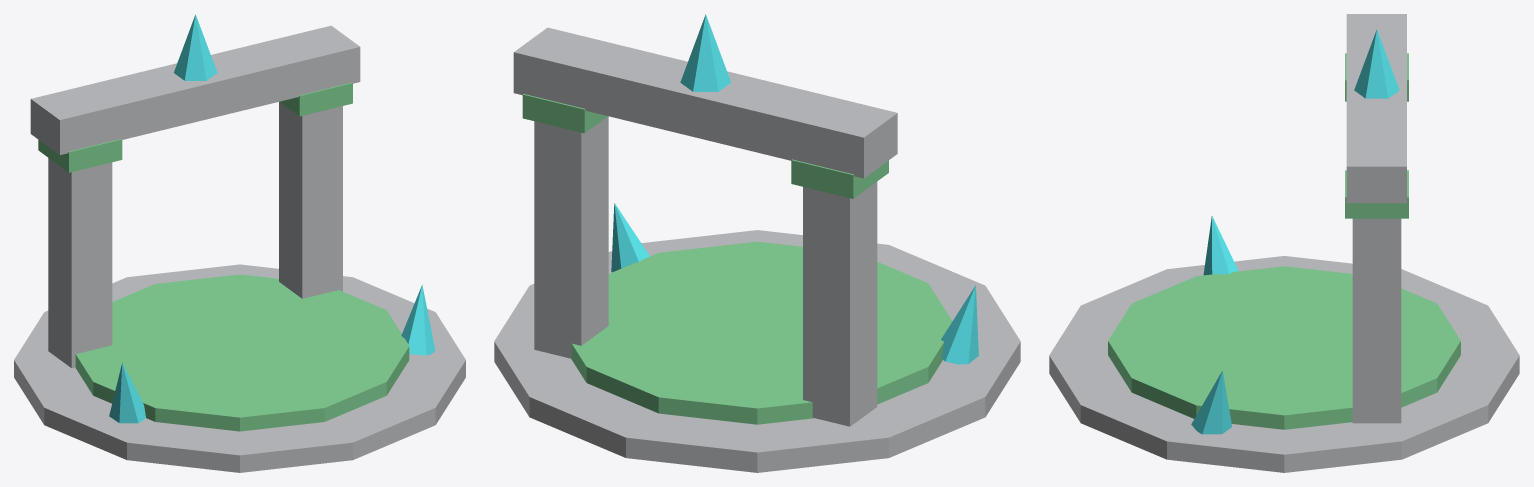
Rendered from AncientRuins.fbx.
The picture shows the model from 3 angles, left to right: view 1: azimuth 30°, elevation 25°; view 2: azimuth 150°, elevation 25°; view 3: azimuth 270°, elevation 25°; orthographic projection. The views are drawn at different scales.
Visible parts, largest first — view 1: AncientRuins; view 2: AncientRuins; view 3: AncientRuins.
Boxes of the visible parts, x1,y1,x2,y2 form: AncientRuins: [14, 14, 465, 472]; AncientRuins: [494, 14, 1020, 472]; AncientRuins: [1049, 14, 1519, 472].
Size of the model in its own units: 5.6 by 4.53 by 5.6.
